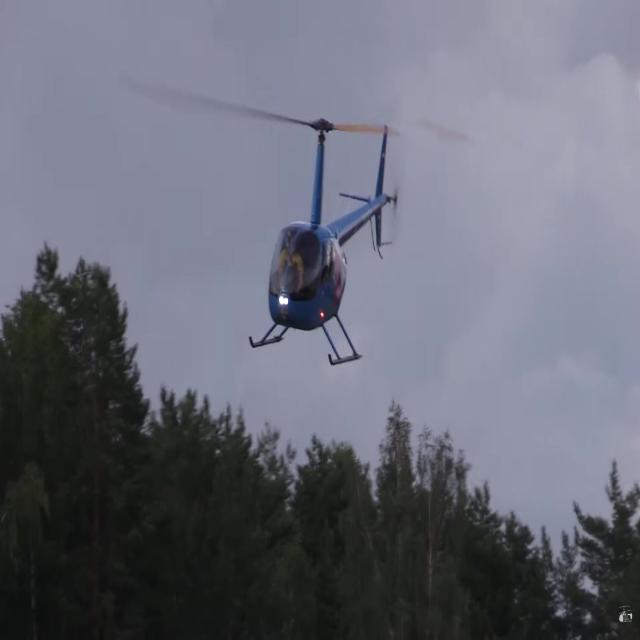CIV_HELO: (249, 115, 399, 366)
